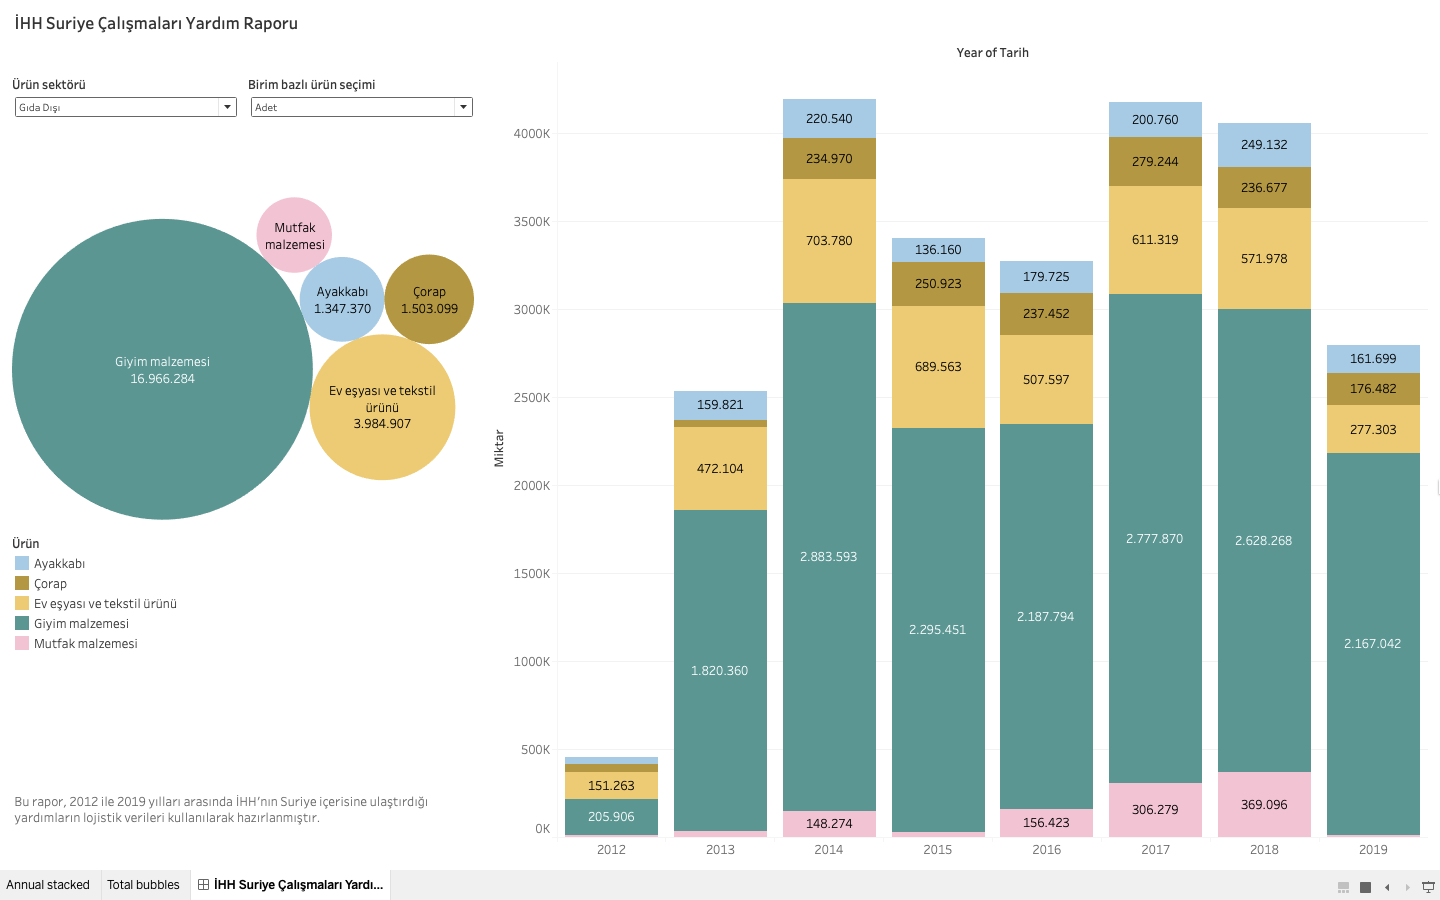

This screenshot's page, from the dashboard's own definition file:
{"tool":"tableau","page":{"name":"İHH Suriye Çalışmaları Yardım Raporu","canvas":[1000,1000],"units":"permille","ordinal":0},"visuals":[{"type":"title","box":[6.5,9.9,987,37.1]},{"type":"blank","box":[6.5,47,326.8,39.4]},{"type":"worksheet","title":"Annual stacked","mark":"Bar","rows":["Miktar"],"cols":["Tarih"],"box":[333.3,47,660.2,943.1]},{"type":"filter","title":"Total bubbles","param":"[federated.1mxeqqh1x6fw6u15vb8dy1q2r8ap].[none:Sektör:nk]","box":[6.5,86.4,163.3,90.4]},{"type":"filter","title":"Total bubbles","param":"[federated.1mxeqqh1x6fw6u15vb8dy1q2r8ap].[none:Birim:nk]","box":[169.8,86.4,163.5,90.4]},{"type":"blank","box":[6.5,176.8,326.8,39.6]},{"type":"worksheet","title":"Total bubbles","mark":"Circle","box":[6.5,216.4,326.8,394.6]},{"type":"legend","title":"Total bubbles","param":"[federated.1mxeqqh1x6fw6u15vb8dy1q2r8ap].[none:Ürün:nk]","box":[6.5,611.1,326.8,258.9]},{"type":"text","box":[6.5,869.9,326.8,120.2]}]}

Visuals, with their boxes on the dashboard's canvas, which has no fixed pixel size, in thousandths of its width and height (x1, y1, x2, y2). These are canvas units, not pixel positions in the 1440x900 screenshot, which may show the page scaled, cropped or inside an application window:
title: (left=6, top=10, right=994, bottom=47)
blank: (left=6, top=47, right=333, bottom=86)
"Annual stacked" worksheet (Bar marks): (left=333, top=47, right=994, bottom=990)
"Total bubbles" filter: (left=6, top=86, right=170, bottom=177)
"Total bubbles" filter: (left=170, top=86, right=333, bottom=177)
blank: (left=6, top=177, right=333, bottom=216)
"Total bubbles" worksheet (Circle marks): (left=6, top=216, right=333, bottom=611)
"Total bubbles" legend: (left=6, top=611, right=333, bottom=870)
text: (left=6, top=870, right=333, bottom=990)
